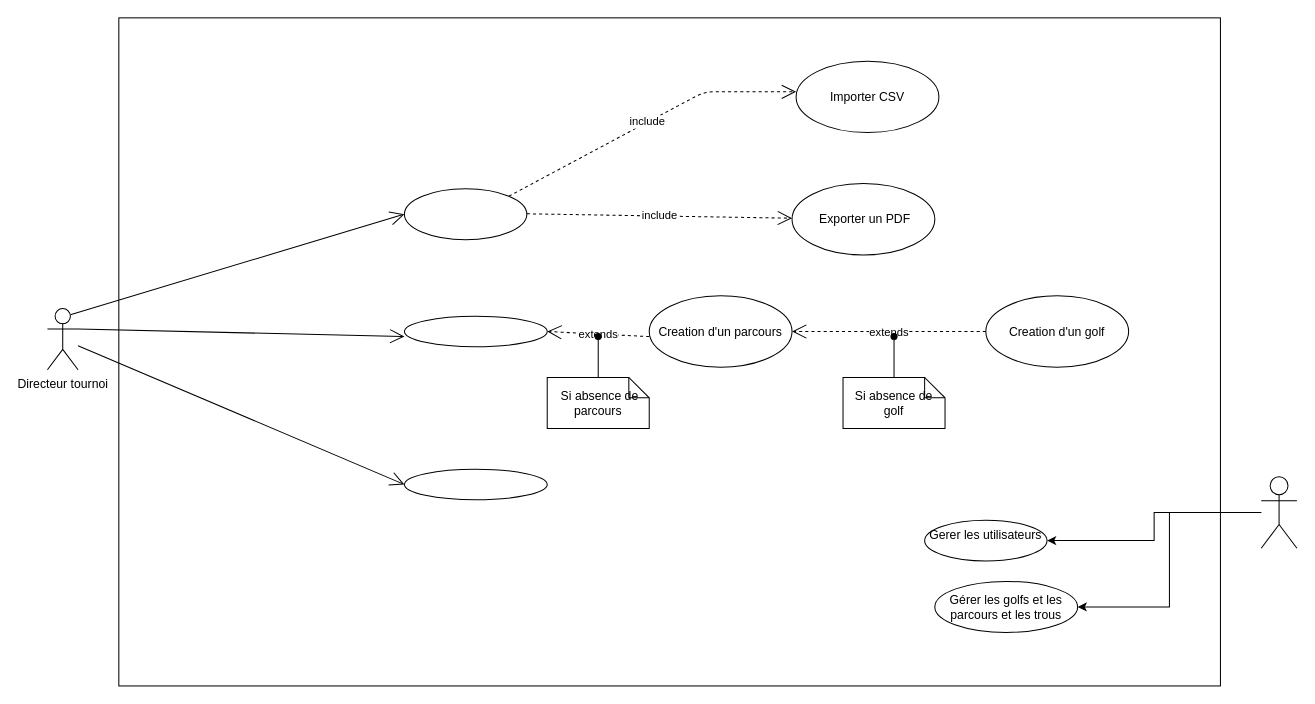
The diagram is 1315 pixels wide and 704 high, and some of its shapes have lost their labels. The shapes that lost their labels are listed below. From the top down, each one's centre as x and y in pixels, then its label:
the point at 465,214: Generer cadence de jeu
the point at 475,331: Planifier un tournoi
the point at 475,484: Commenter un tournoi
the point at 1278,512: Admin
